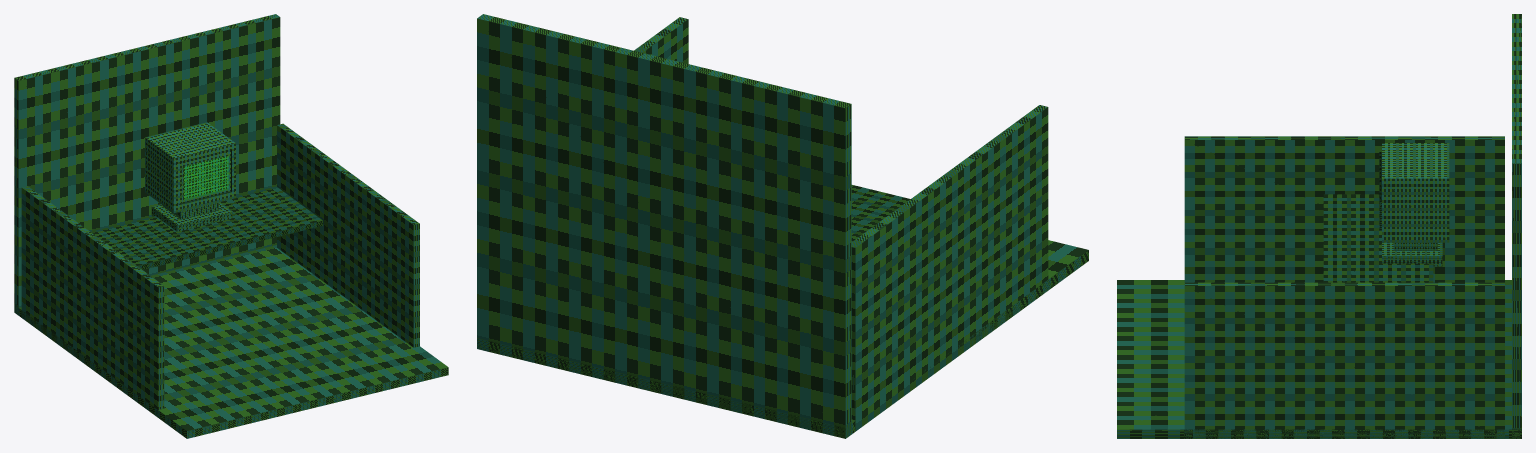
Rendered from neighbor_bay.glb.
The picture shows the model from 3 angles, left to right: view 1: azimuth 30°, elevation 25°; view 2: azimuth 150°, elevation 25°; view 3: azimuth 270°, elevation 25°; orthographic projection. The views are drawn at different scales.
Parts seen in each view (by area): view 1: neighbor_bay; view 2: neighbor_bay; view 3: neighbor_bay.
Boxes of the visible parts, x1=… form: neighbor_bay: x1=14, y1=14, x2=448, y2=438; neighbor_bay: x1=477, y1=14, x2=1088, y2=438; neighbor_bay: x1=1117, y1=14, x2=1521, y2=438.
Bounding box in the file's own units: 2.1 × 1.8 × 2.4.
1 material, 1 textured.
